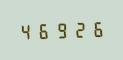four: (18, 21, 34, 40)
nine: (52, 20, 68, 39)
six: (35, 20, 51, 40), (86, 19, 102, 38)
two: (69, 19, 85, 39)
